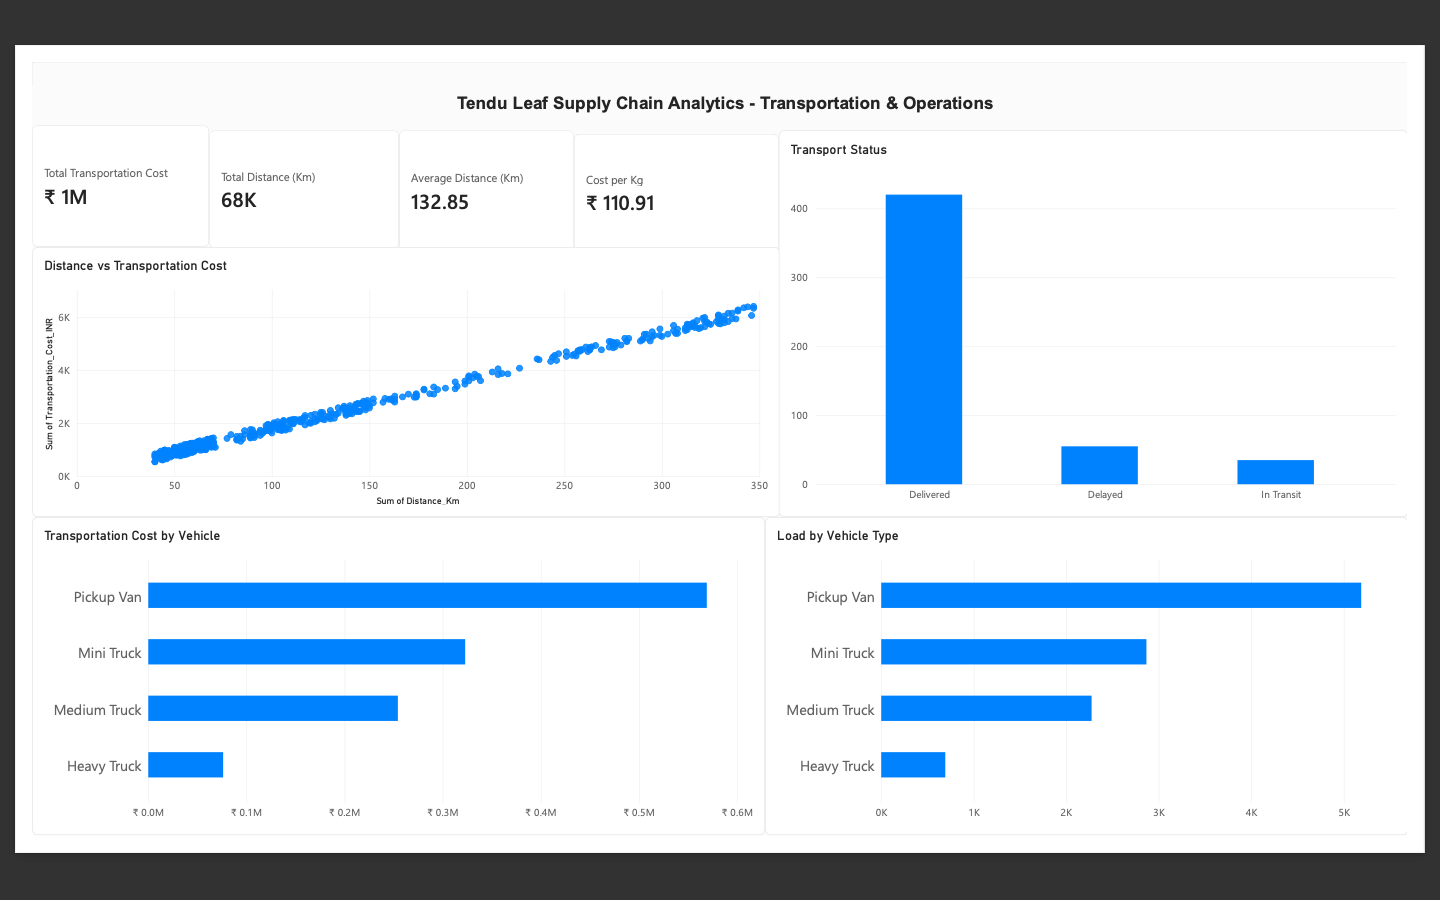

This screenshot's page, from the dashboard's own definition file:
{"tool":"powerbi","page":{"name":"Transportation & Operations","canvas":[1920,1080],"ordinal":3},"visuals":[{"type":"textbox","box":[593,41.9,897.7,46.5],"z":0},{"type":"cardVisual","fields":{"Data":["Transportation.Total Transportation Cost"]},"box":[0,88.4,246.5,169.8],"z":1000},{"type":"cardVisual","fields":{"Data":["Transportation.Total Distance"]},"box":[246.5,95.3,265.1,165.1],"z":2000},{"type":"cardVisual","fields":{"Data":["Transportation.Average Distance"]},"box":[511.6,95.3,244.2,169.8],"z":3000},{"type":"cardVisual","fields":{"Data":["Transportation.Cost per Kg"]},"box":[755.8,100,286,162.8],"z":4000},{"type":"scatterChart","title":"Distance vs Transportation Cost","fields":{"X":["Sum(Transportation.Distance_Km)"],"Y":["Sum(Transportation.Transportation_Cost_INR)"],"Category":["Transportation.Transport_ID"]},"box":[0,258.1,1044.2,376.7],"z":5000},{"type":"clusteredBarChart","title":"Transportation Cost by Vehicle","fields":{"Category":["Transportation.Vehicle_Type"],"Y":["Transportation.Total Transportation Cost"]},"box":[0,634.9,1023.3,444.2],"z":6000},{"type":"clusteredBarChart","title":"Load by Vehicle Type","fields":{"Category":["Transportation.Vehicle_Type"],"Y":["Sum(Transportation.Load_Weight_Kg)"]},"box":[1023.3,634.9,897.7,444.2],"z":7000},{"type":"clusteredColumnChart","title":"Transport Status","fields":{"Category":["Transportation.Transport_Status"],"Y":["CountNonNull(Transportation.Vehicle_ID)"]},"box":[1041.9,95.3,879.1,539.5],"z":8000}]}

Visuals, with their boxes on the page's 1920x1080 design canvas (x1, y1, x2, y2). These are canvas units, not pixel positions in the 1440x900 screenshot, which may show the page scaled, cropped or inside an application window:
textbox: [593, 42, 1491, 88]
cardVisual - Transportation.Total Transportation Cost: [0, 88, 246, 258]
cardVisual - Transportation.Total Distance: [246, 95, 512, 260]
cardVisual - Transportation.Average Distance: [512, 95, 756, 265]
cardVisual - Transportation.Cost per Kg: [756, 100, 1042, 263]
"Distance vs Transportation Cost" scatterChart: [0, 258, 1044, 635]
"Transportation Cost by Vehicle" clusteredBarChart: [0, 635, 1023, 1079]
"Load by Vehicle Type" clusteredBarChart: [1023, 635, 1921, 1079]
"Transport Status" clusteredColumnChart: [1042, 95, 1921, 635]
